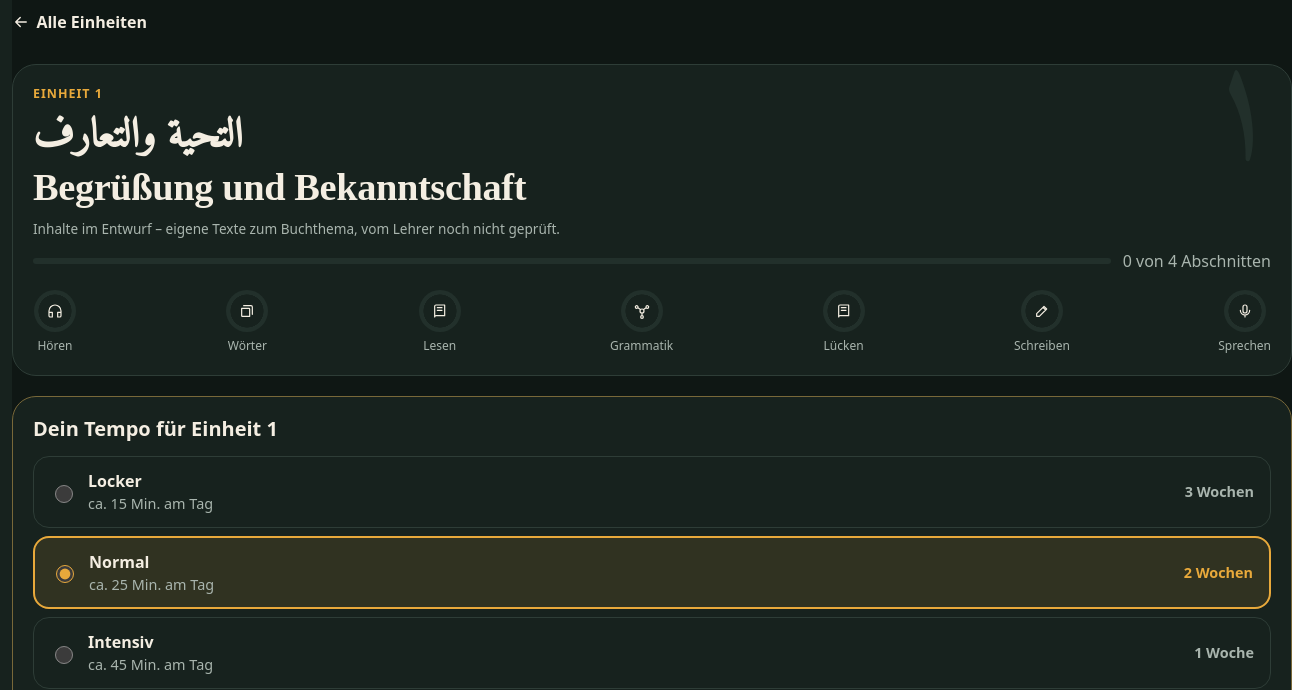
Test: Unit enrollment (integration) › starts a unit with the chosen pace and shows the countdown
expect the heading "Dein Tempo für Einheit 1" is shown: met, box top-left (33, 415), bottom-right (278, 442)
Click the radio button labelled "Intensiv ca. 45 Min. am Tag 1 Woche": (64, 655) top-left (55, 646), bottom-right (73, 664)
(page scrolled)
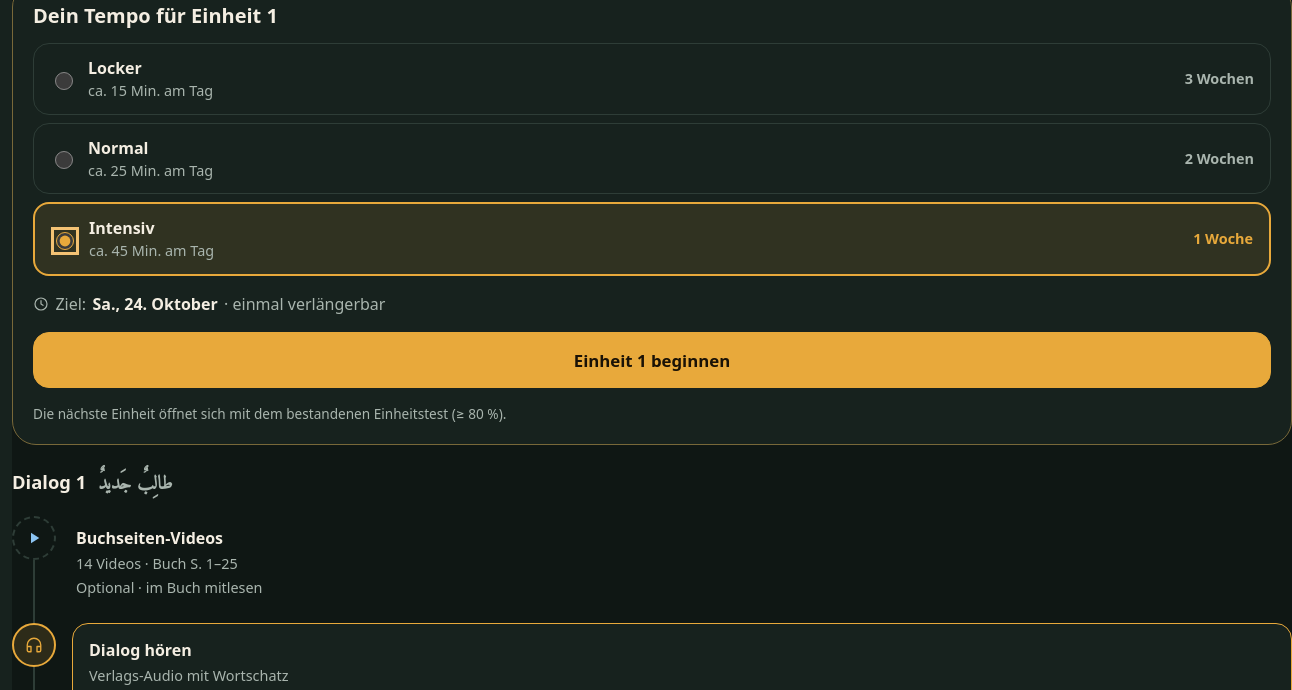
Click the button "Einheit 1 beginnen": (652, 360) top-left (33, 332), bottom-right (1271, 388)
(page scrolled)
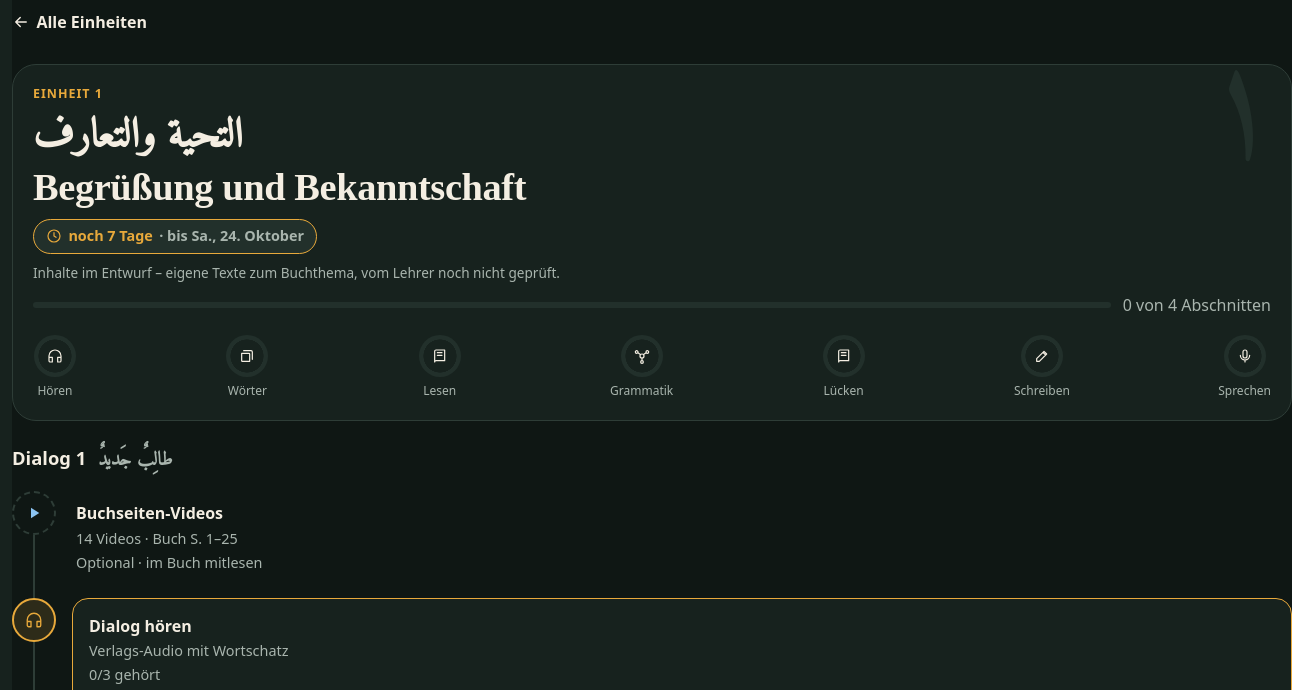
expect the text "noch 7 Tage" is shown: met, box top-left (68, 226), bottom-right (153, 246)
expect the heading "Dein Tempo für Einheit 1" is gone: met
